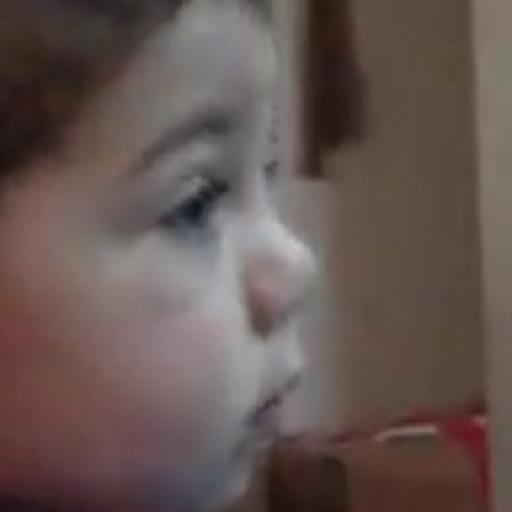Autism: (10, 38, 449, 512)
